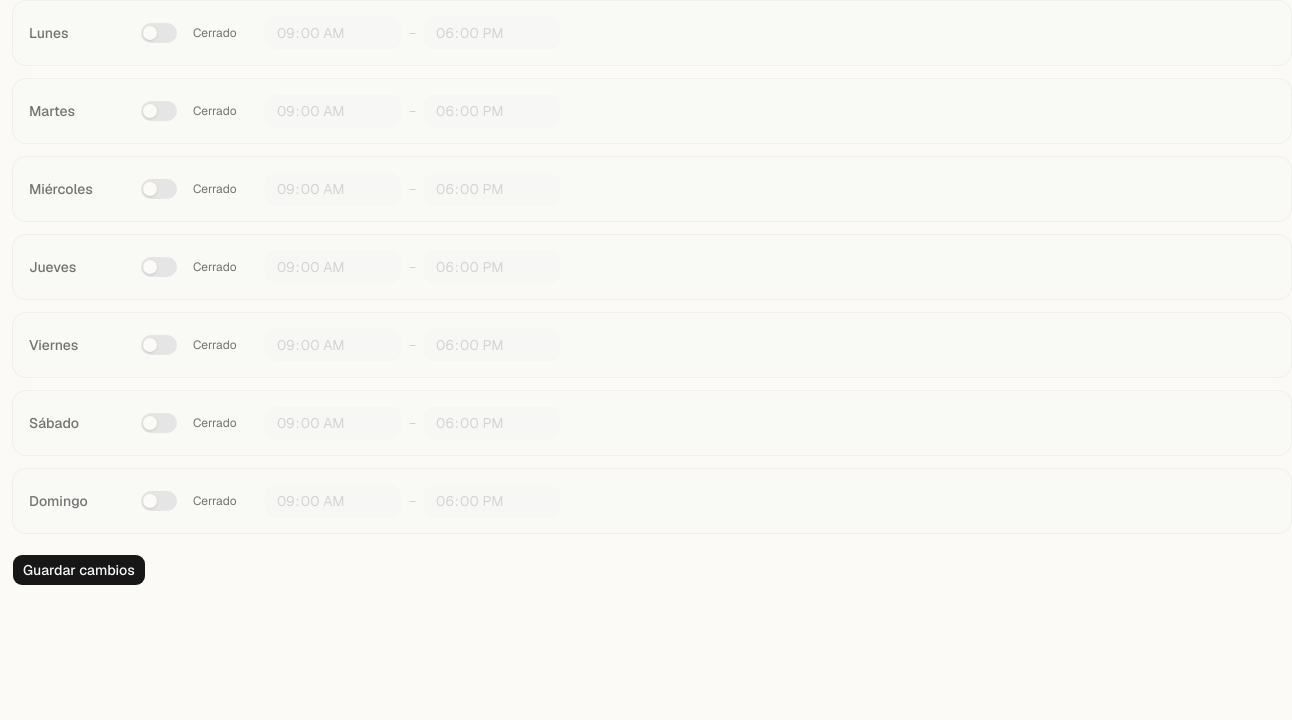
Test: ScheduleForm — toggle de días › activa un día al hacer clic en el toggle
Click the switch next to "Lunes" at (159, 33), box [141,23,177,43]
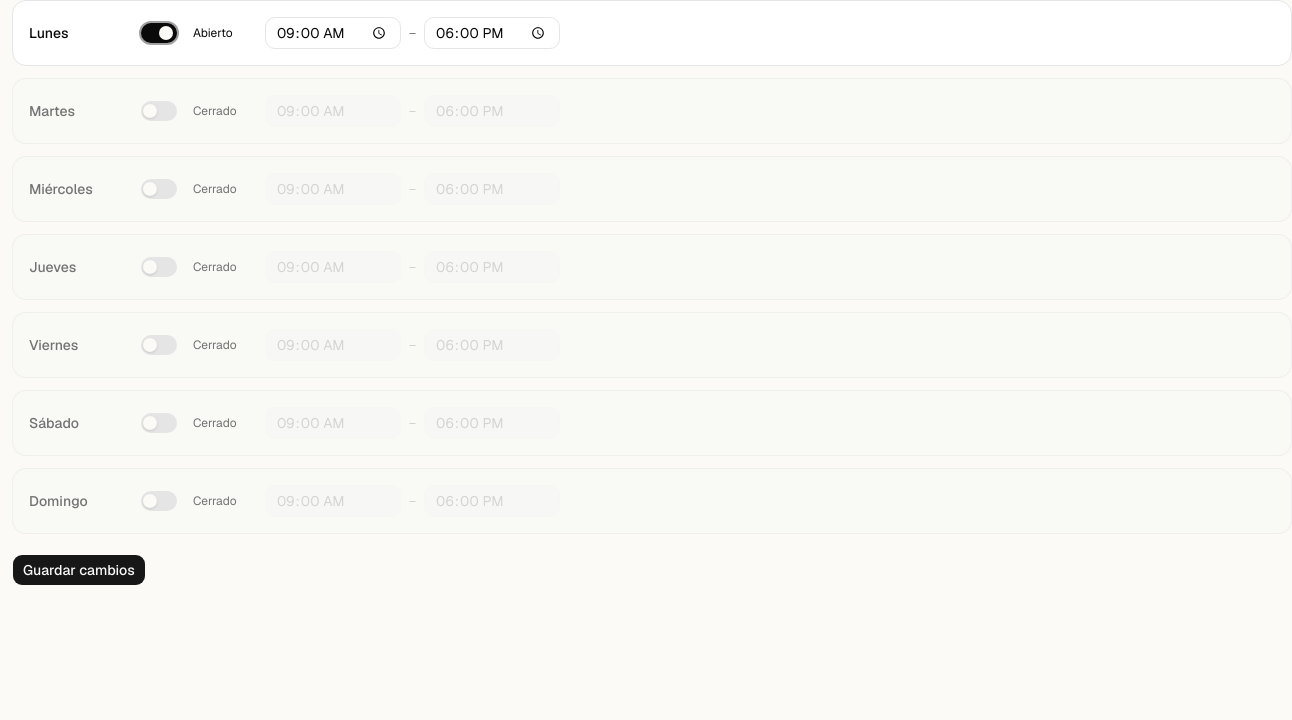
Result: the text "Abierto" is shown at [193,25,233,41]
